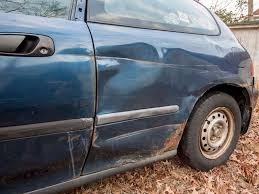Dent: (57, 40, 167, 120), (163, 45, 246, 109), (91, 119, 188, 166)
Scratch: (66, 133, 92, 181)
